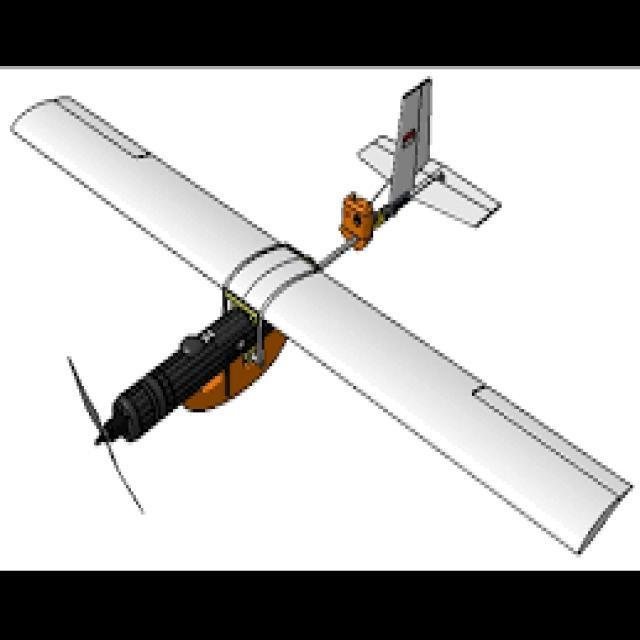iha: (10, 75, 640, 561)
